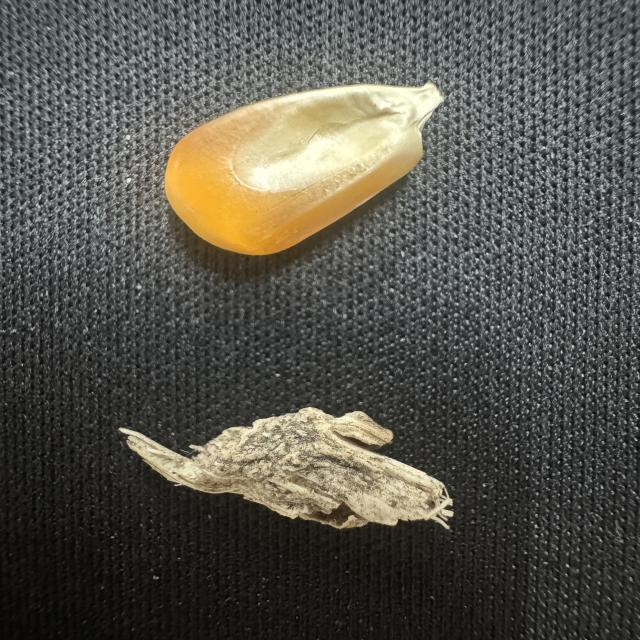Bad-Seed: (81, 394, 465, 549)
Good-Seed: (148, 67, 450, 266)
